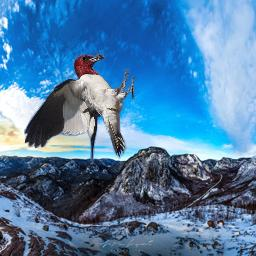Woodpecker: (24, 51, 135, 162)
